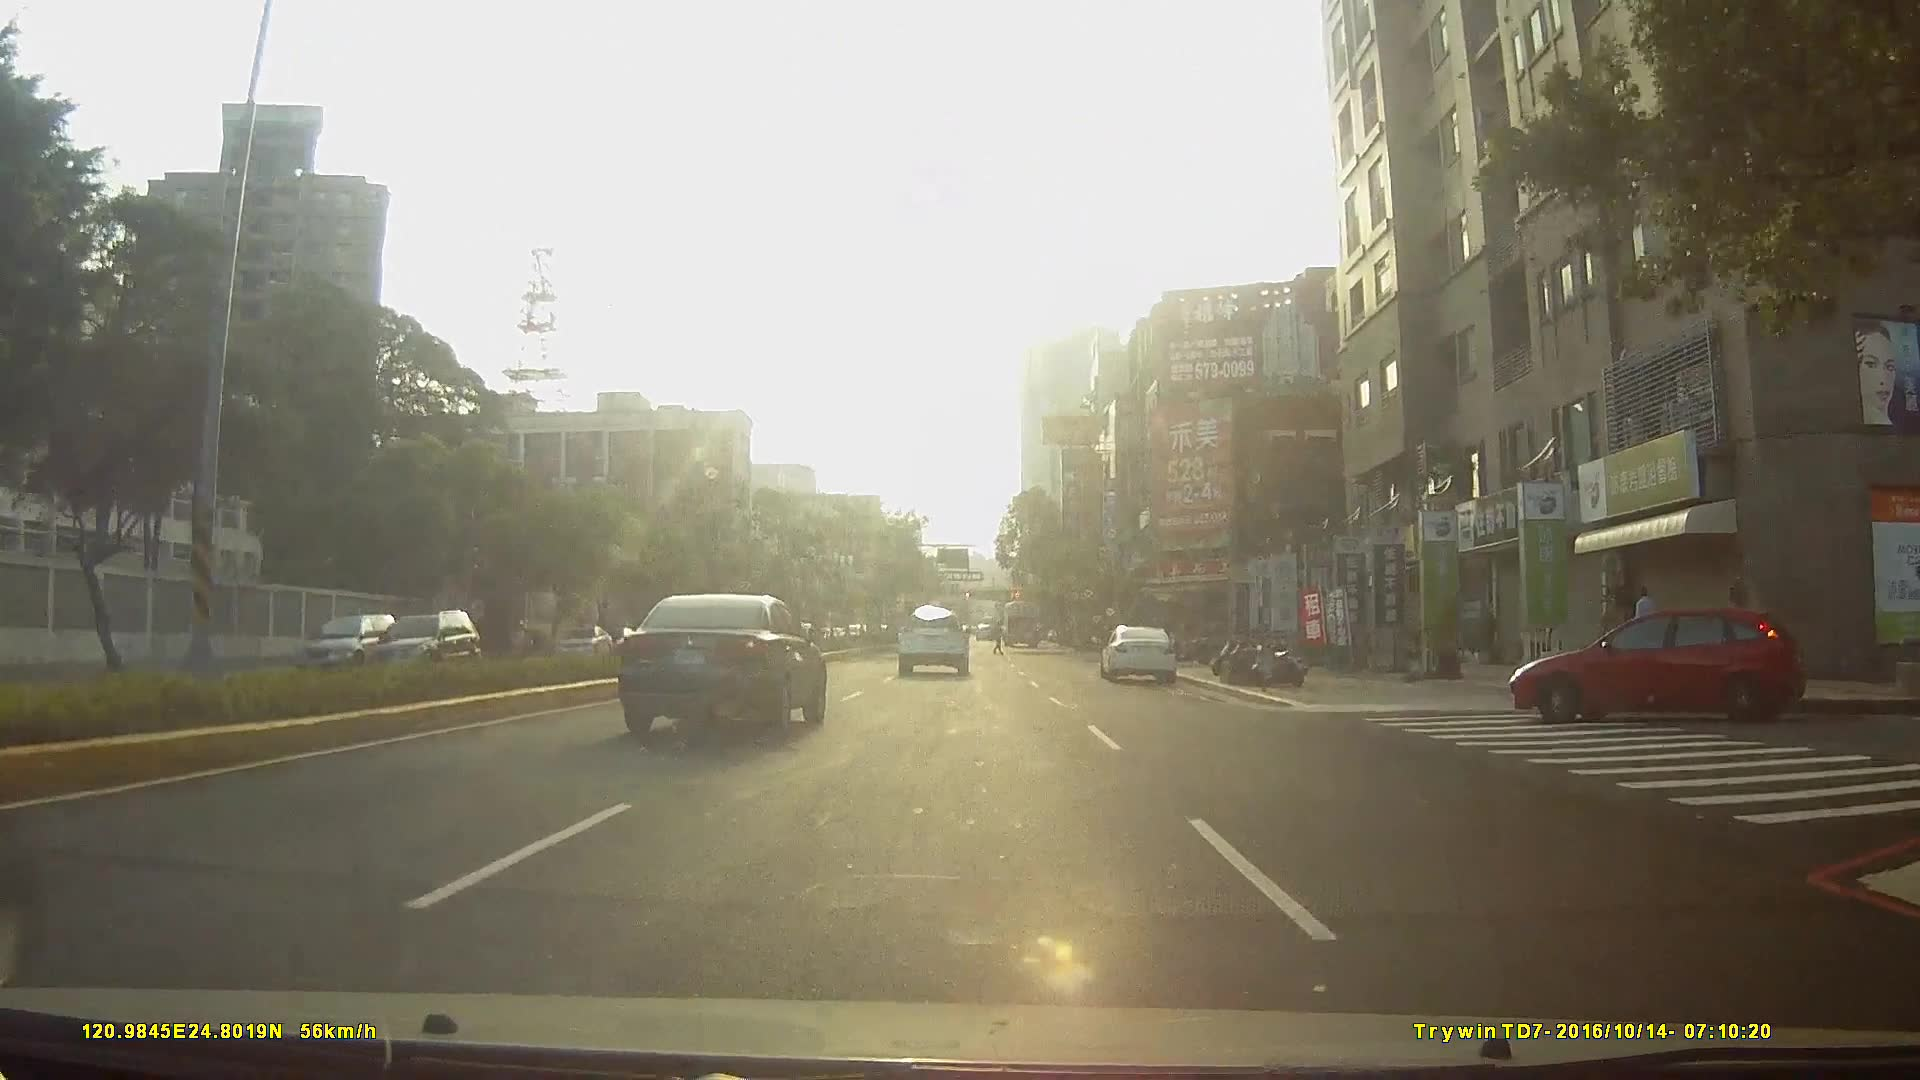pedestrian: (1630, 587, 1662, 673)
rider: (507, 619, 538, 665)
vehicle: (1502, 606, 1820, 731), (621, 592, 829, 737), (349, 608, 470, 676), (298, 610, 408, 677), (896, 606, 970, 677), (1099, 625, 1182, 684), (998, 598, 1043, 648), (554, 624, 610, 658)
